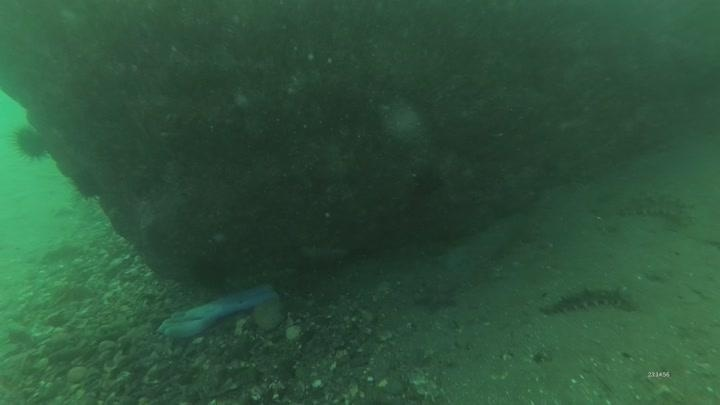echinus: (187, 250, 232, 293), (62, 168, 107, 211), (11, 123, 50, 163)
holothurian: (538, 281, 638, 317), (612, 188, 694, 224)
